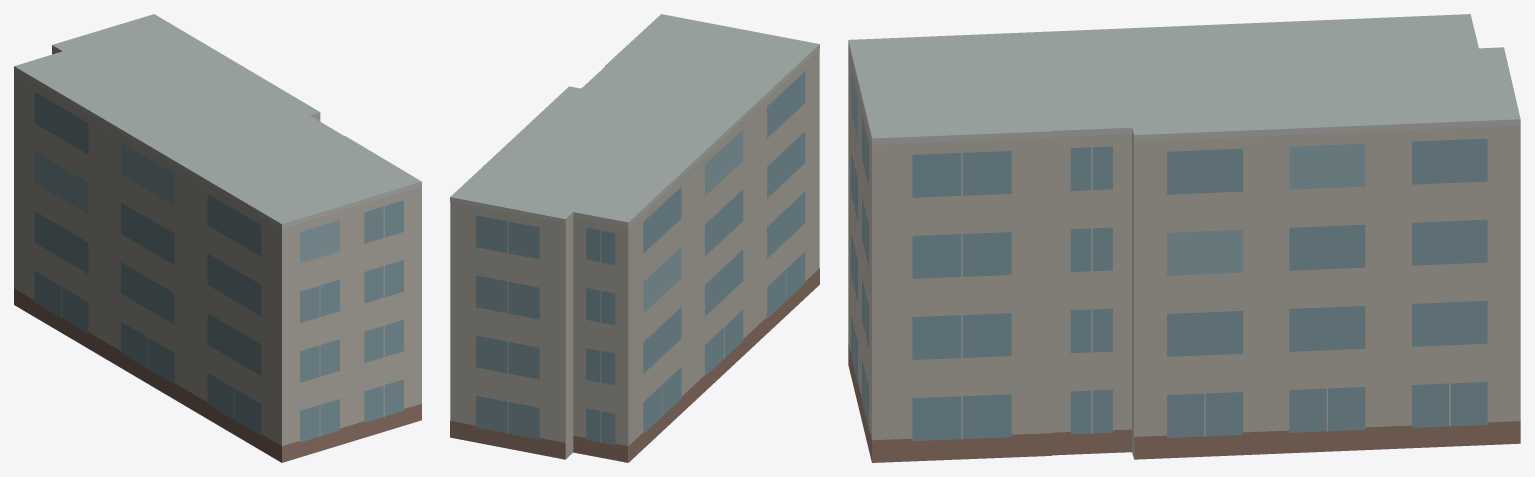
Rendered from survey-upis-32655676.glb.
3 views of the same model, side by side, from view 1: azimuth 30°, elevation 25°; view 2: azimuth 150°, elevation 25°; view 3: azimuth 270°, elevation 25° (orthographic). The views are drawn at different scales.
Parts seen in each view (by area): view 1: survey-upis-32655676.tmp; view 2: survey-upis-32655676.tmp; view 3: survey-upis-32655676.tmp.
Part boxes in pixels (x1=…): survey-upis-32655676.tmp: x1=14, y1=14, x2=421, y2=462; survey-upis-32655676.tmp: x1=450, y1=14, x2=819, y2=462; survey-upis-32655676.tmp: x1=848, y1=14, x2=1520, y2=462.
Bounding box in the file's own units: 10.62 × 12.9 × 24.24.
